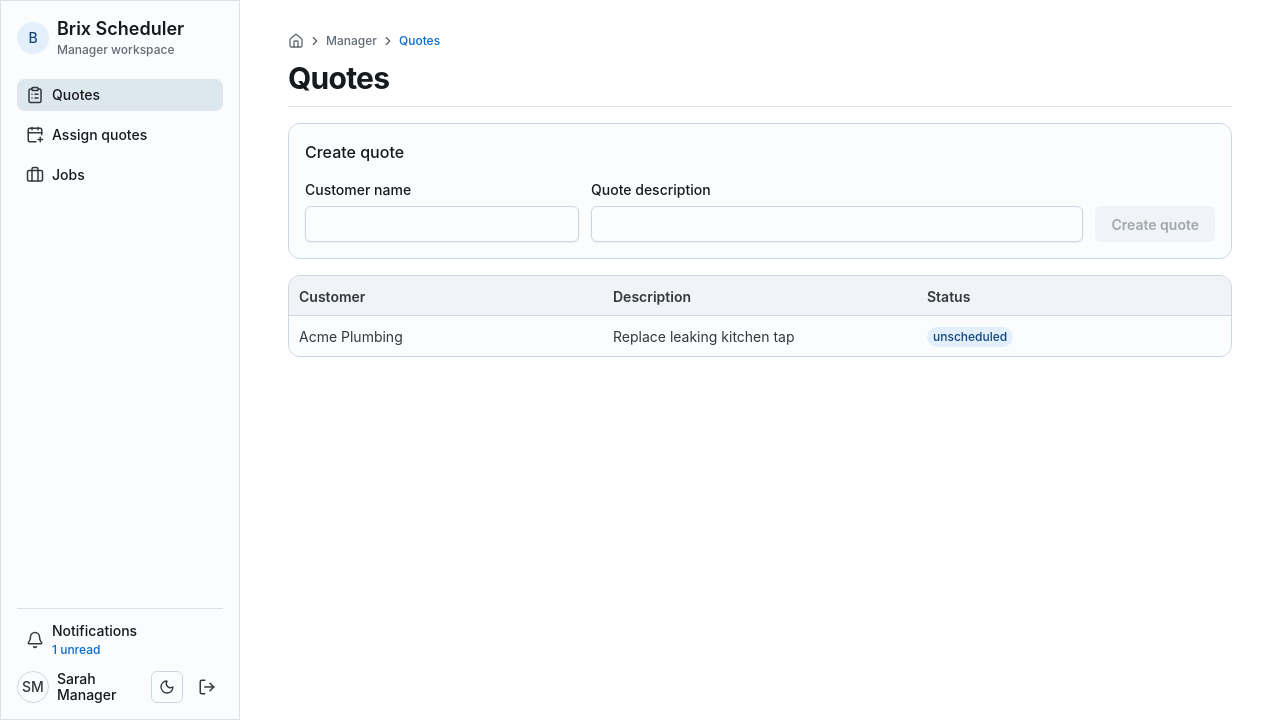
Test: manager dashboard › Notification menu opens as a slide-out drawer with unread count and notification time
Click the button with aria-label "Open notifications": (82, 639) top-left (26, 622), bottom-right (137, 657)
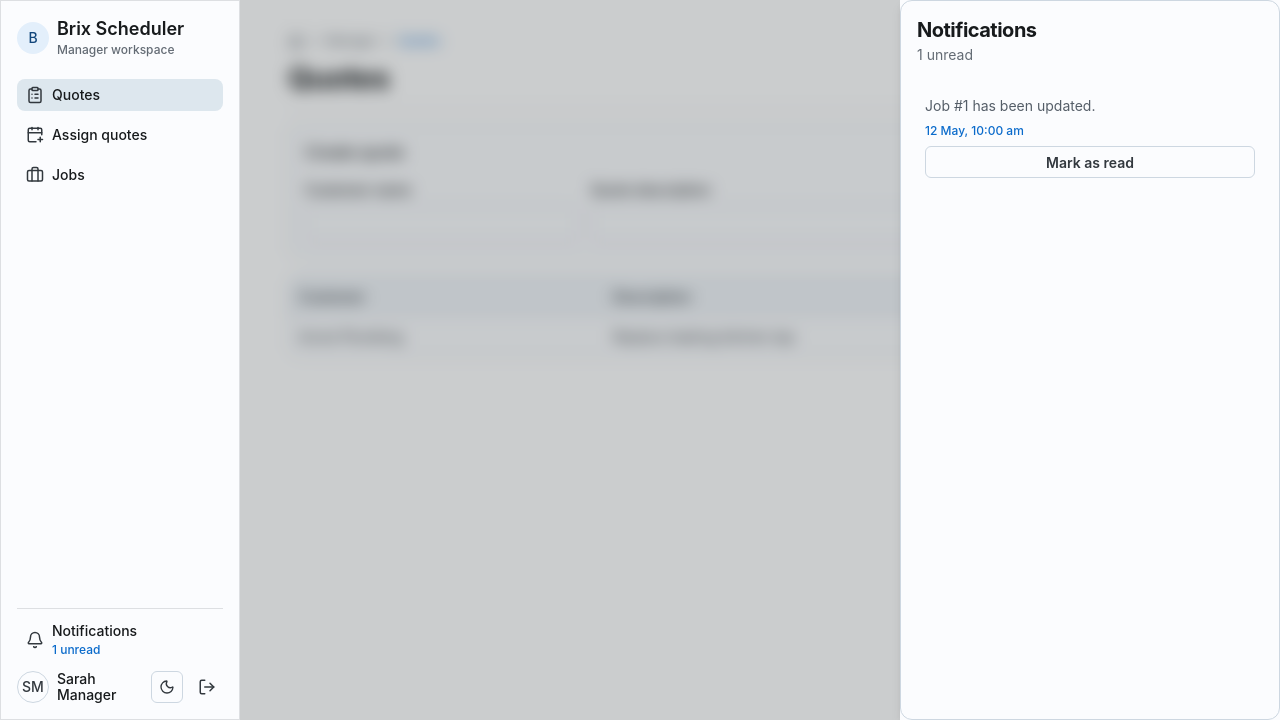
expect the dialog "Notifications" shows "1 unread": met, box top-left (900, 0), bottom-right (1279, 719)
expect the dialog "Notifications" shows "Job #1 has been updated.": met, box top-left (925, 97), bottom-right (1096, 114)
expect the dialog "Notifications" shows "12 May": met, box top-left (925, 123), bottom-right (1024, 138)
